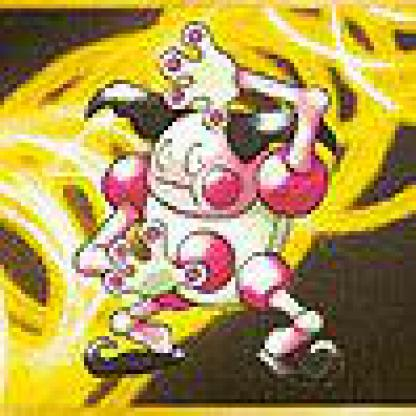Mr. Mime: (1, 1, 413, 413)
